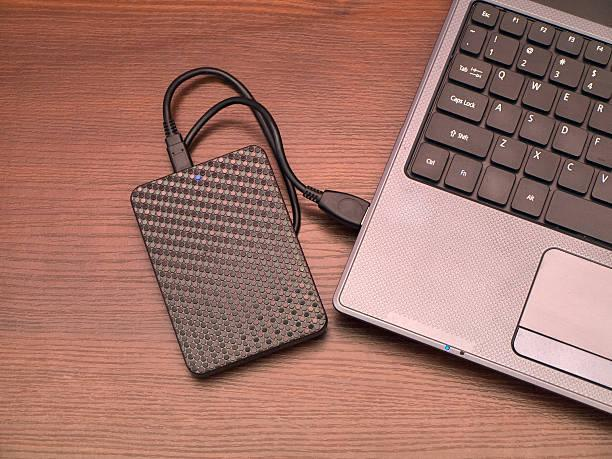HDD: (129, 145, 328, 380)
